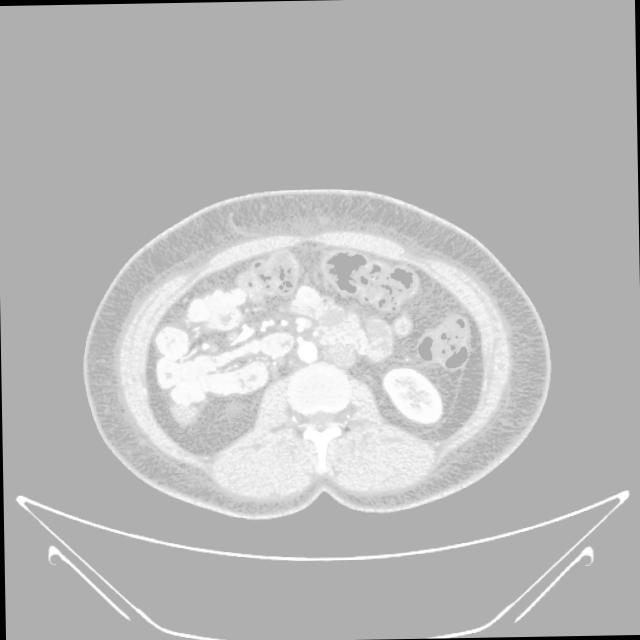NORMAL: (55, 153, 572, 520)
